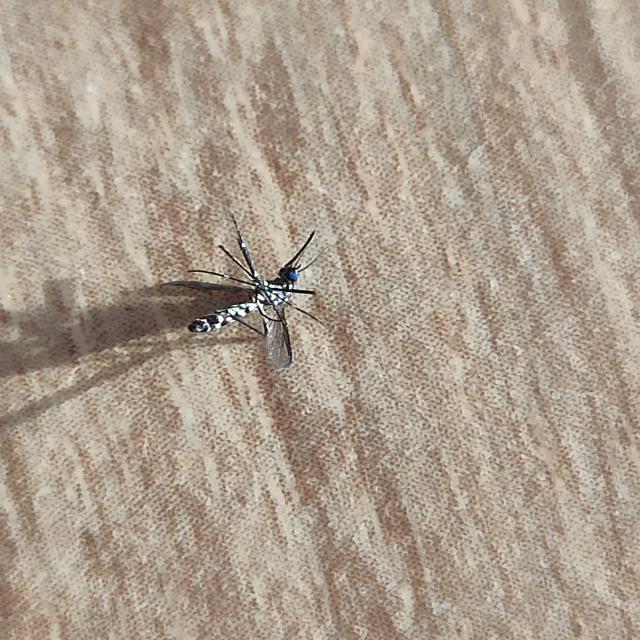albopictus: (138, 208, 338, 381)
